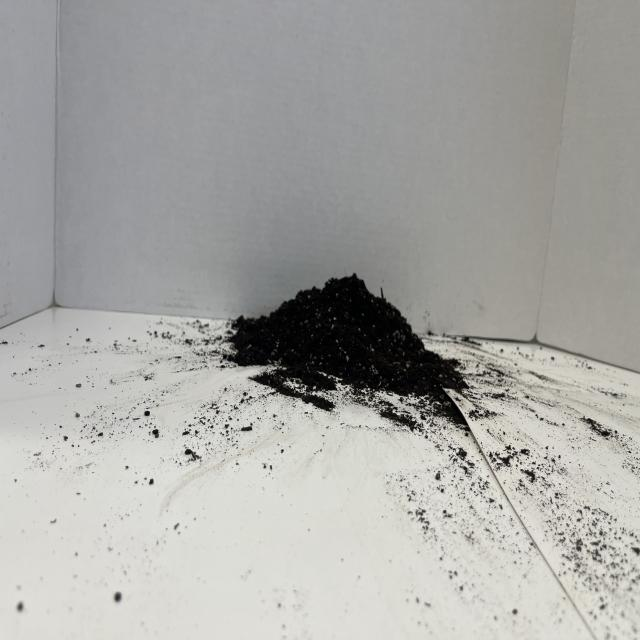soil: (225, 270, 469, 410)
